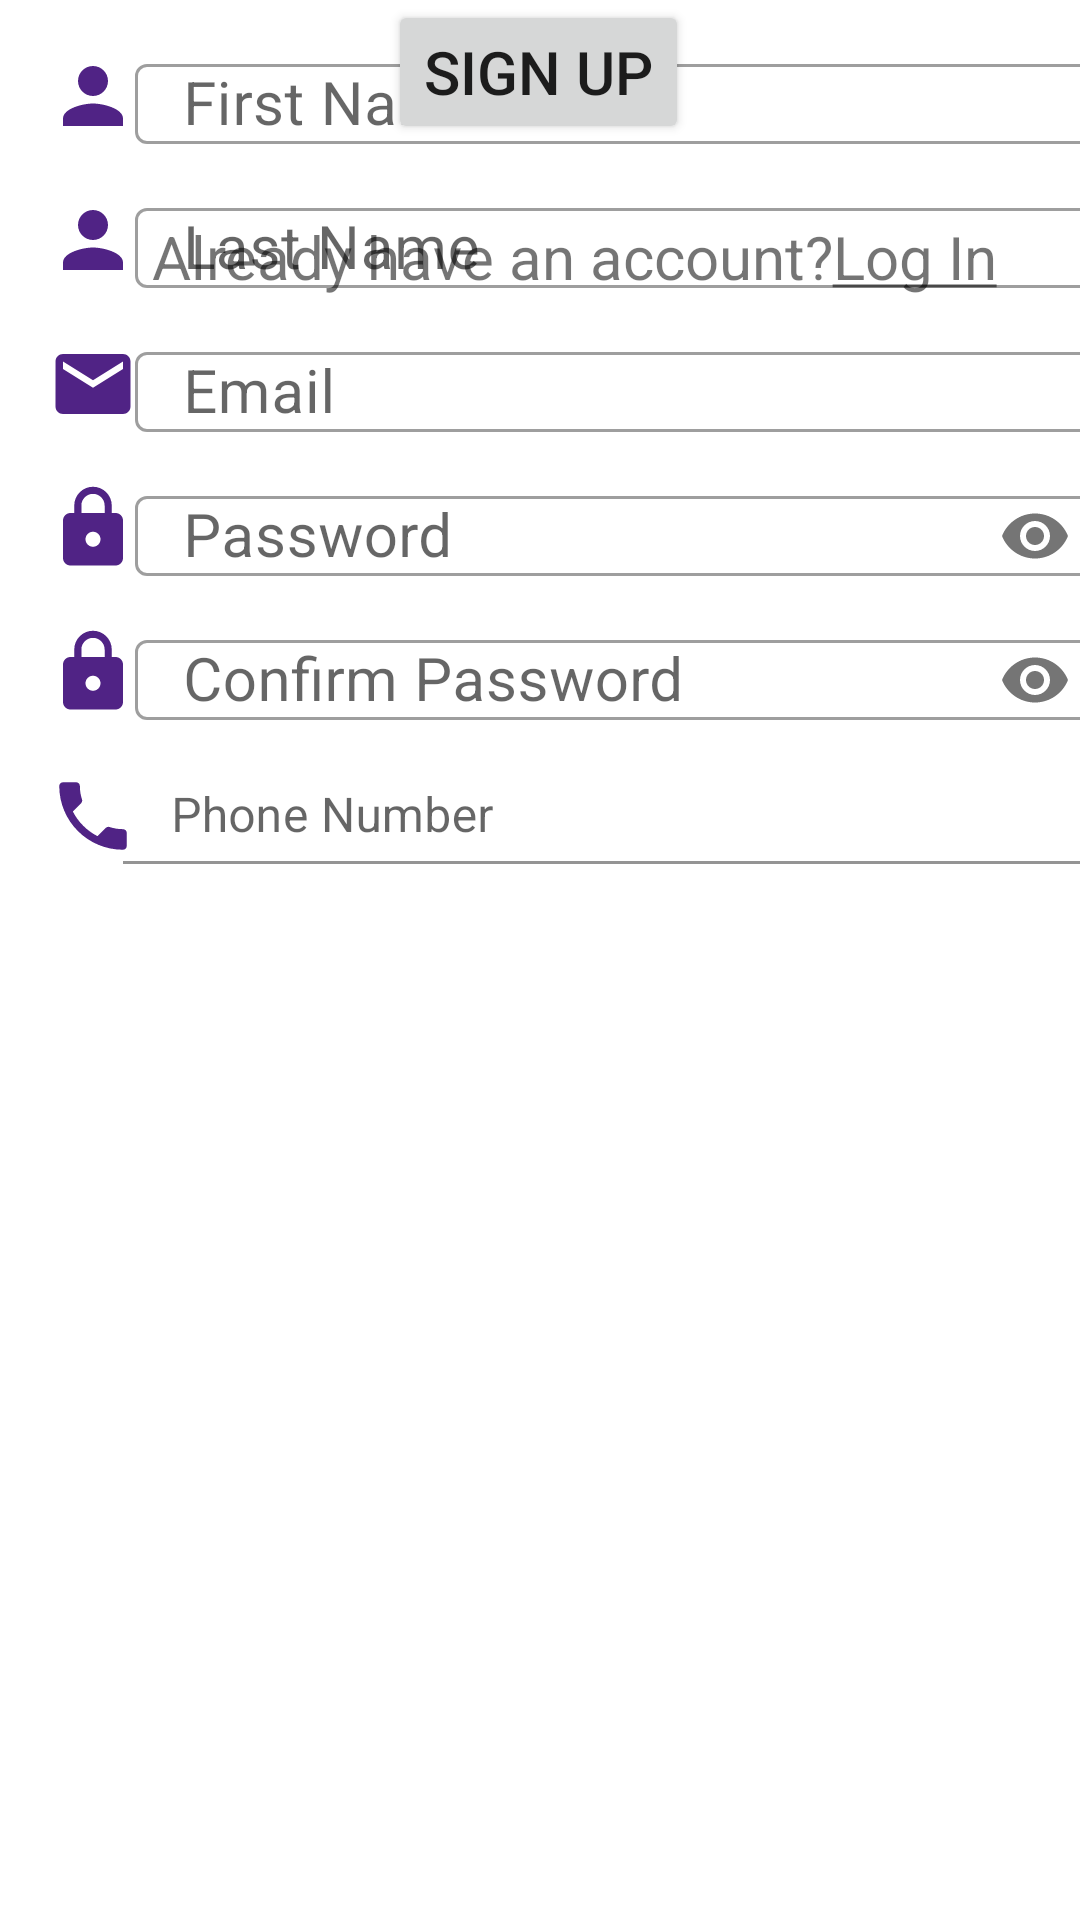

Named icons in this screenshot (1080×1920) and their centers, point (x, y):
local phone: point (93, 816)
lock: point (93, 526), point (93, 670)
person: point (93, 96), point (93, 240)
